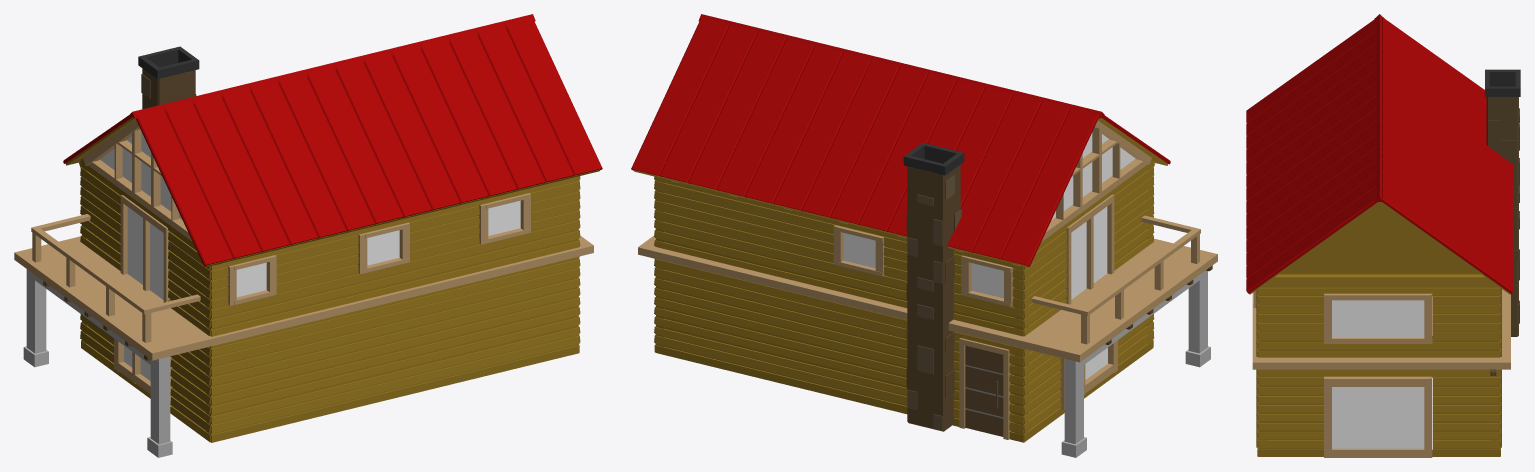
The model's file is cabin.fbx.
The picture shows the model from 3 angles, left to right: view 1: azimuth 30°, elevation 25°; view 2: azimuth 150°, elevation 25°; view 3: azimuth 270°, elevation 25°; orthographic projection. The views are drawn at different scales.
Visible parts, largest first — view 1: cabin_roof_right, cabin_wall_right, cabin_floor, cabin_wall_front, cabin_window_front_3, cabin_porch_substructure, cabin_window_front_2, porch_railing, cabin_chimney, cabin_window_right_3, cabin_window_right_2, cabin_window_right_1 (+3 smaller); view 2: cabin_roof_left, cabin_wall_left, cabin_chimney, cabin_floor, cabin_wall_front, cabin_window_front_3, cabin_porch_substructure, cabin_window_front_2, cabin_door, porch_railing, cabin_window_left_1, cabin_windwo_left_2 (+4 smaller); view 3: cabin_wall_back, cabin_roof_right, cabin_roof_left, window_back_1, window_back_2, cabin_floor, cabin_chimney, cabine_roof_gable, cabin_wall_right, cabin_wall_left.
Boxes of the visible parts, x1,y1,x2,y2 form: cabin_roof_right: (136,17,602,267); cabin_wall_right: (206,176,579,442); cabin_floor: (14,236,593,360); cabin_wall_front: (80,158,210,442); cabin_window_front_3: (82,120,192,241); cabin_porch_substructure: (23,269,172,457); cabin_window_front_2: (120,195,169,302); porch_railing: (31,214,200,342); cabin_chimney: (138,46,199,109); cabin_window_right_3: (478,193,530,244); cabin_window_right_2: (357,222,409,274); cabin_window_right_1: (227,255,276,305); cabin_roof_left: (631,17,1098,267); cabin_wall_left: (655,177,1028,442); cabin_chimney: (903,142,964,431); cabin_floor: (638,236,1217,362); cabin_wall_front: (1014,159,1154,442); cabin_window_front_3: (1041,120,1151,241); cabin_porch_substructure: (1061,270,1210,457); cabin_window_front_2: (1065,194,1114,304); cabin_door: (965,345,1003,436); porch_railing: (1031,215,1200,344); cabin_window_left_1: (961,255,1013,306); cabin_windwo_left_2: (833,225,884,276); cabin_wall_back: (1258,202,1500,456); cabin_roof_right: (1246,17,1379,294); cabin_roof_left: (1380,17,1513,294); window_back_1: (1324,376,1432,457); window_back_2: (1324,293,1432,343); cabin_floor: (1252,289,1510,369); cabin_chimney: (1485,69,1520,336); cabine_roof_gable: (1374,14,1384,201); cabin_wall_right: (1256,286,1267,456); cabin_wall_left: (1490,286,1501,456).
Bounding box in the file's own units: 2476 × 1513 × 1399.
